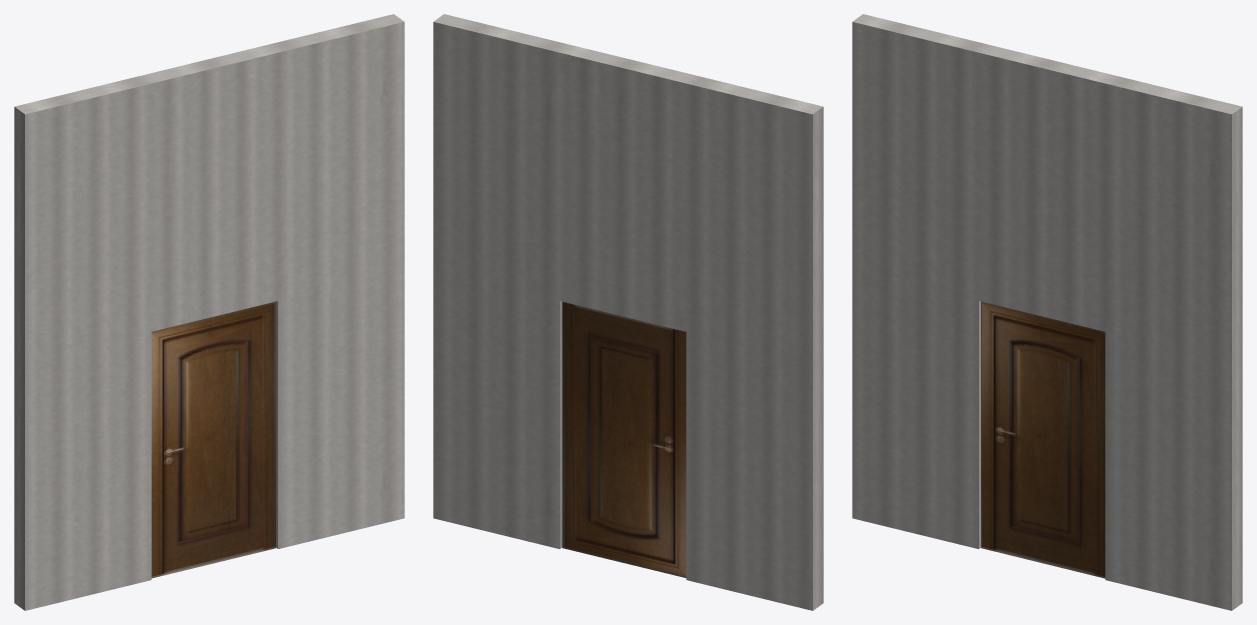
Rendered from clean wall with Door.fbx.
3 renders of one model, left to right at view 1: azimuth 30°, elevation 25°; view 2: azimuth 150°, elevation 25°; view 3: azimuth 330°, elevation 25°, orthographic.
Parts seen in each view (by area): view 1: Stained wall with door.001, Cube.001; view 2: Stained wall with door.001, Cube.001; view 3: Stained wall with door.001, Cube.001.
Part boxes in pixels (x1,y1,x2,y2): Stained wall with door.001: (14,14,404,610); Cube.001: (151,301,275,578); Stained wall with door.001: (433,14,823,610); Cube.001: (562,301,686,577); Stained wall with door.001: (852,14,1242,610); Cube.001: (981,301,1105,578).
Bounding box in the file's own units: 400 × 501 × 19.55.
